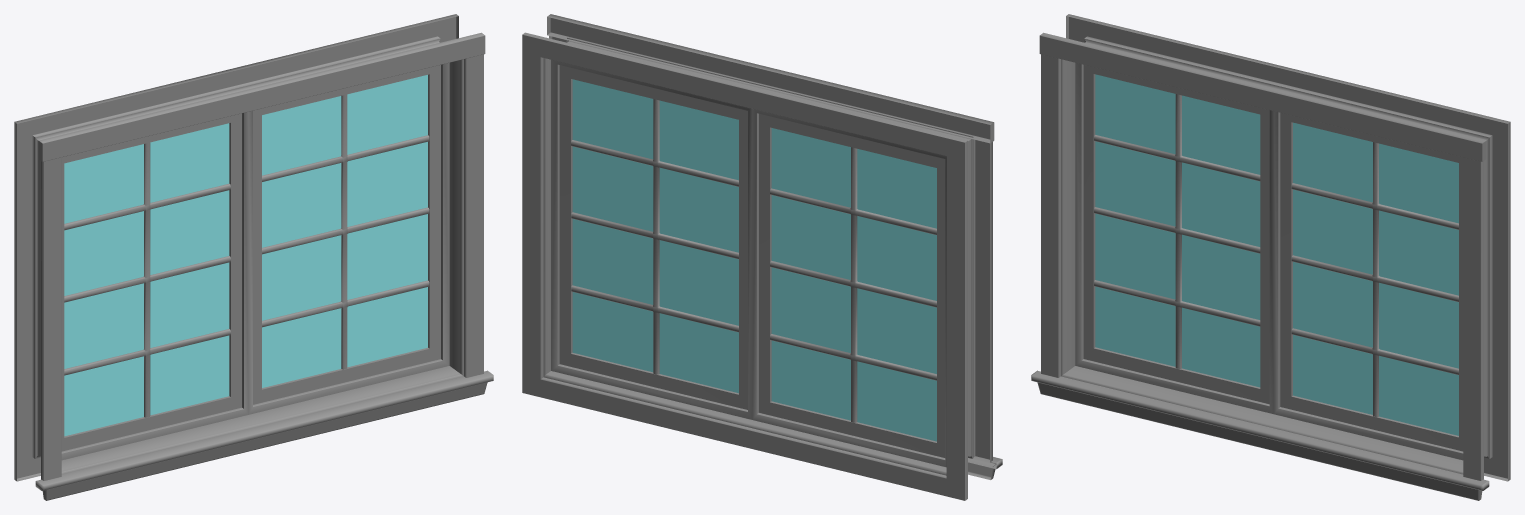
Rendered from Window_double_static.FBX.
3 renders of one model, left to right at view 1: azimuth 30°, elevation 25°; view 2: azimuth 150°, elevation 25°; view 3: azimuth 330°, elevation 25°, orthographic.
Visible parts, largest first — view 1: Window_double_static, Windowglass_B, Windowglass_A; view 2: Window_double_static, Windowglass_B, Windowglass_A; view 3: Window_double_static, Windowglass_B, Windowglass_A.
Part boxes in pixels (x1,y1,x2,y2): Window_double_static: [14, 14, 493, 500]; Windowglass_B: [262, 75, 427, 387]; Windowglass_A: [64, 123, 229, 436]; Window_double_static: [522, 14, 1002, 500]; Windowglass_B: [572, 79, 738, 393]; Windowglass_A: [771, 128, 936, 441]; Window_double_static: [1031, 14, 1510, 500]; Windowglass_B: [1293, 122, 1458, 435]; Windowglass_A: [1095, 74, 1260, 387].
Size of the model in its own units: 216 by 163 by 27.46.
